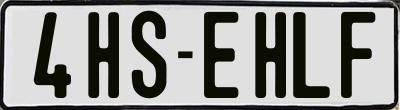4: (32, 12, 69, 99)
E: (202, 10, 239, 101)
F: (340, 10, 374, 97)
H: (88, 9, 123, 99), (253, 10, 286, 101)
L: (290, 12, 332, 102)
S: (132, 9, 167, 99)
